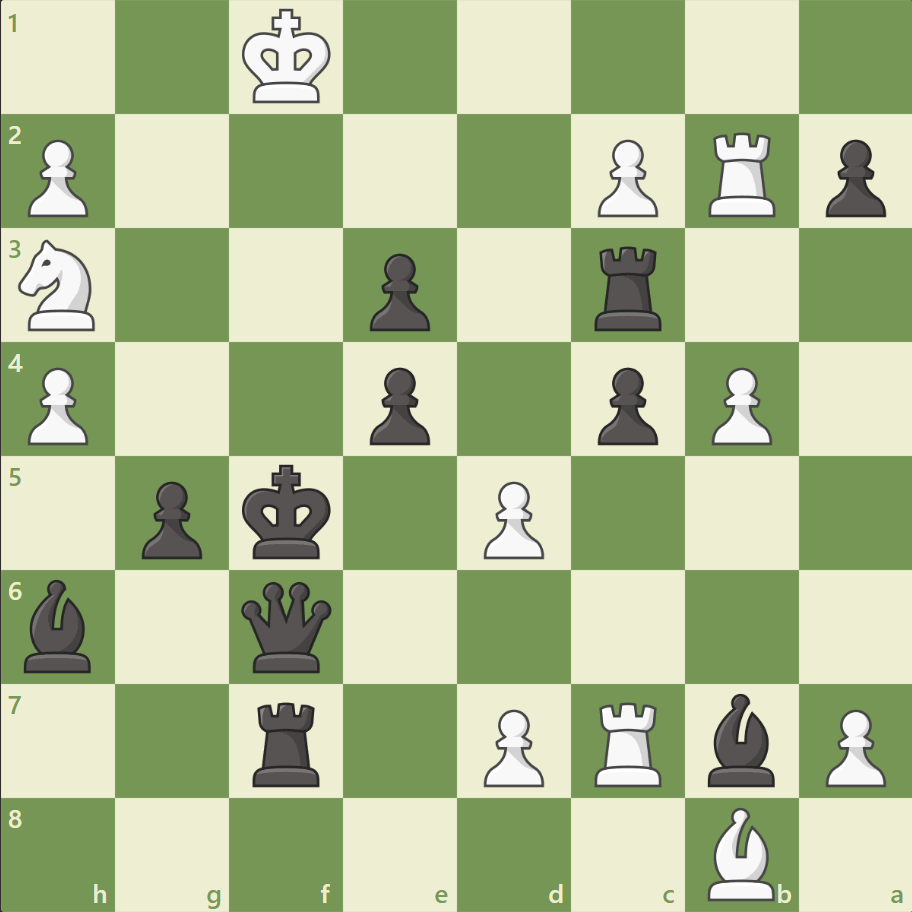B: (698, 801, 782, 904)
K: (238, 4, 338, 112)
N: (11, 234, 108, 337)
P: (474, 700, 549, 791), (474, 473, 549, 564), (701, 359, 776, 450), (20, 359, 95, 450), (20, 132, 95, 223), (815, 700, 889, 791), (588, 132, 662, 223)
R: (587, 693, 670, 790), (700, 125, 783, 222)
b: (698, 687, 782, 790), (17, 574, 101, 676)
k: (238, 458, 338, 566)
p: (133, 473, 208, 564), (588, 359, 662, 450), (361, 359, 435, 450), (361, 246, 435, 337), (815, 132, 889, 223)
q: (237, 576, 336, 676)
r: (246, 693, 329, 790), (587, 239, 670, 336)
